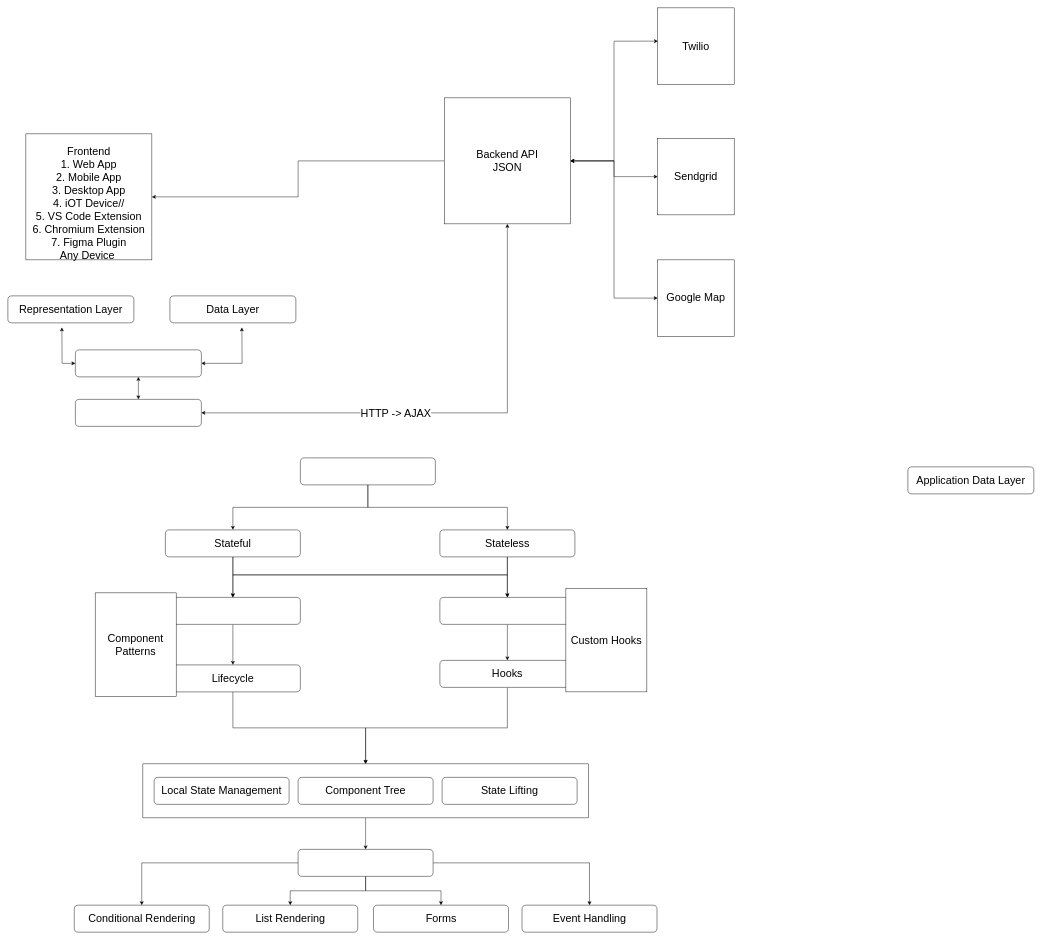
The diagram is 1042 pixels wide and 940 high, and some of its shapes have lost their labels. The shapes that lost their labels are listed below. From the top down, each one's centre as x and y in pixels, then its label:
the point at 138,363: Logical Layer
the point at 138,412: Network Layer
the point at 367,471: Component
the point at 232,610: Class Component
the point at 507,610: Function Component
the point at 365,862: JSX
